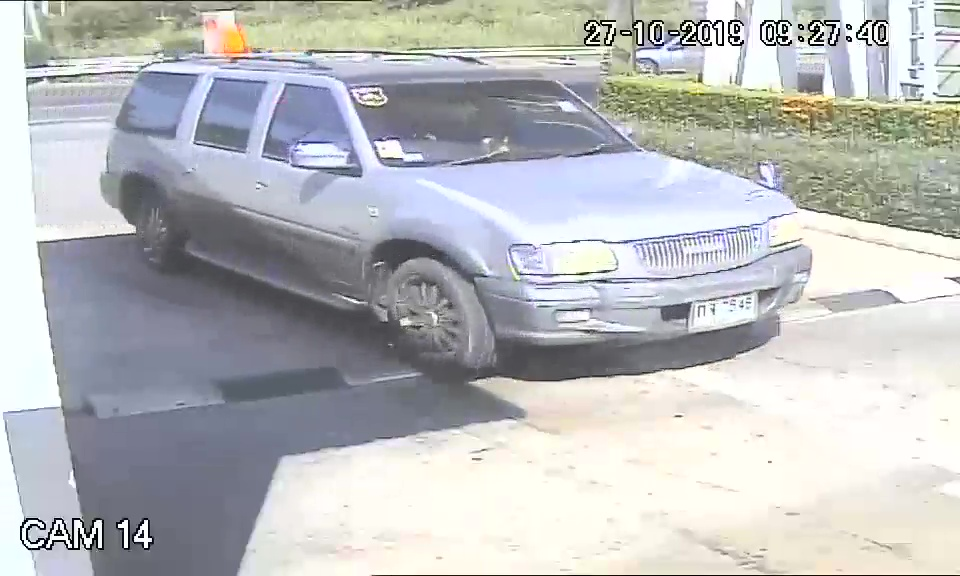pickup: (100, 57, 823, 377)
